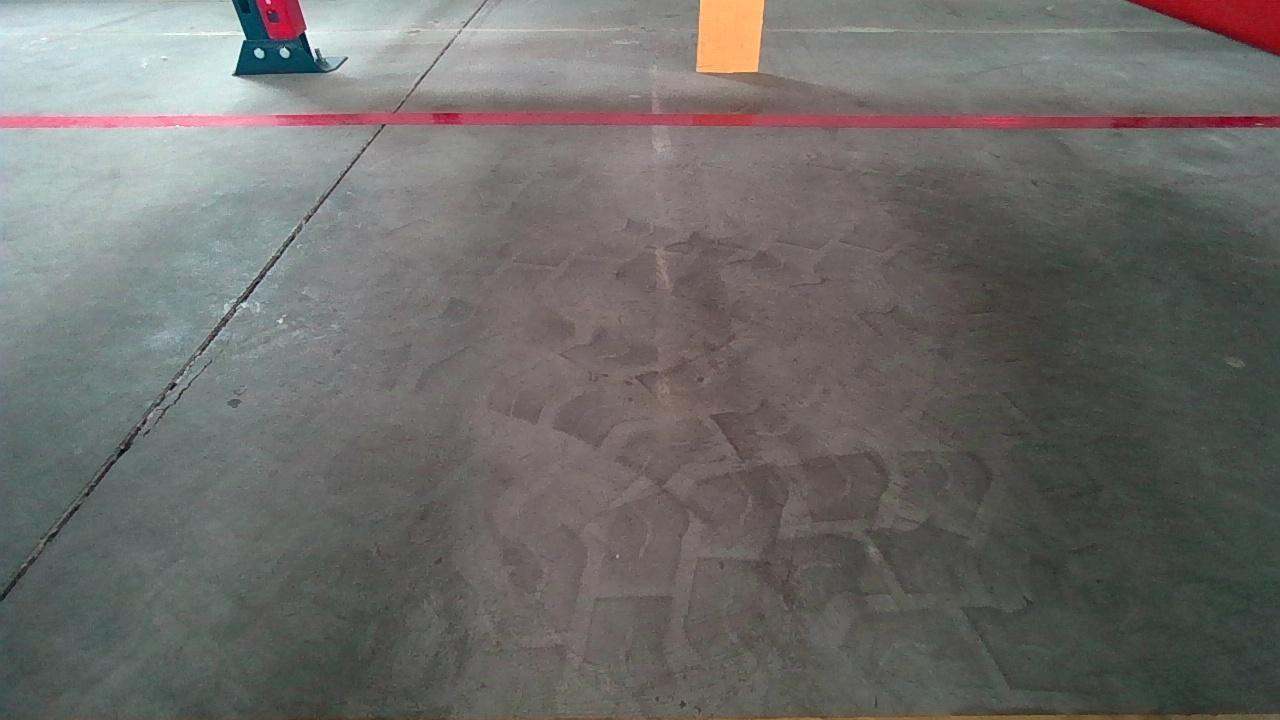orange_strip: (696, 0, 764, 72)
red_line: (2, 108, 1277, 135)
